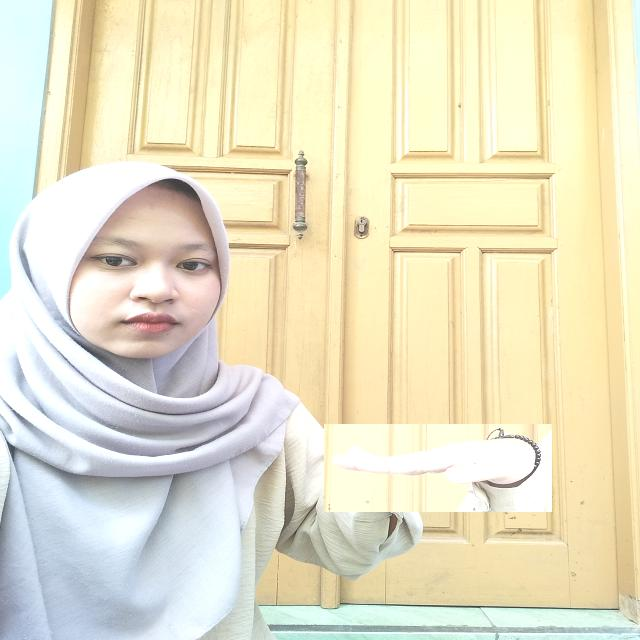adik: (324, 424, 552, 512)
